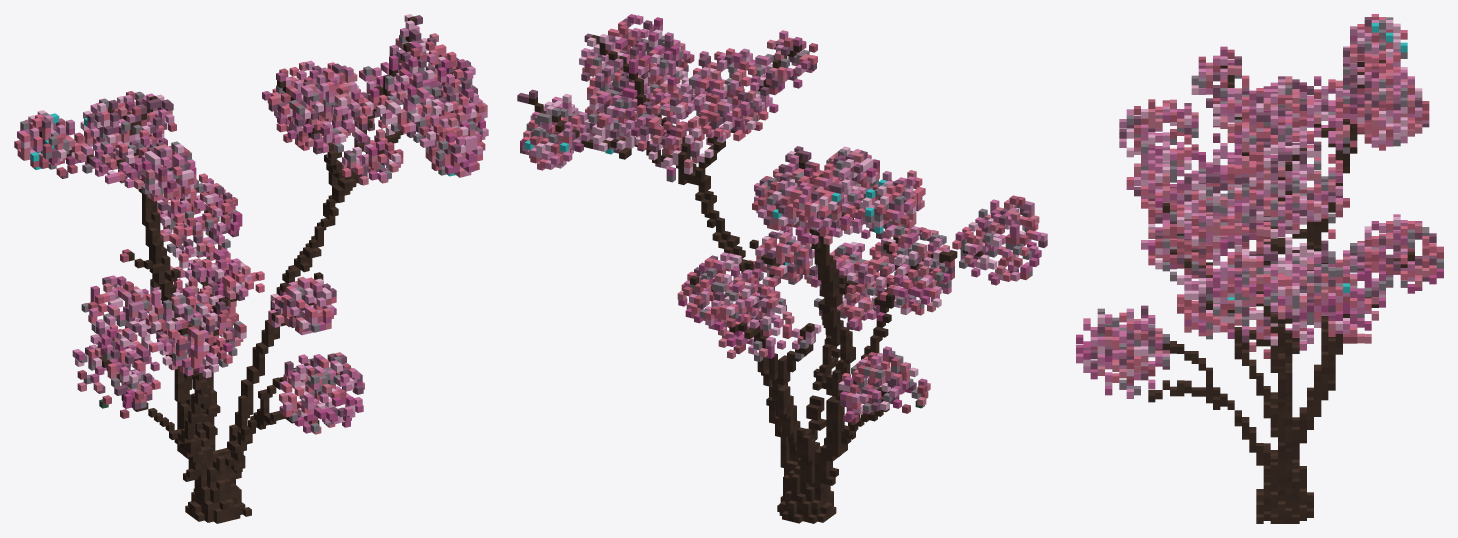
File: Japanese Maple.obj
The picture shows the model from 3 angles, left to right: view 1: azimuth 30°, elevation 25°; view 2: azimuth 150°, elevation 25°; view 3: azimuth 270°, elevation 25°; orthographic projection. The views are drawn at different scales.
Bounding box in the file's own units: 7.8 × 7.4 × 5.1.
Materials: 1 (1 with a texture image).
